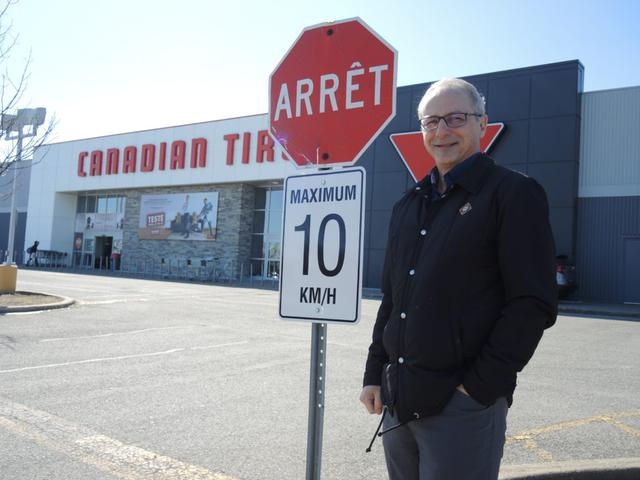stop: (262, 17, 400, 169)
vitesse: (277, 176, 366, 327)
